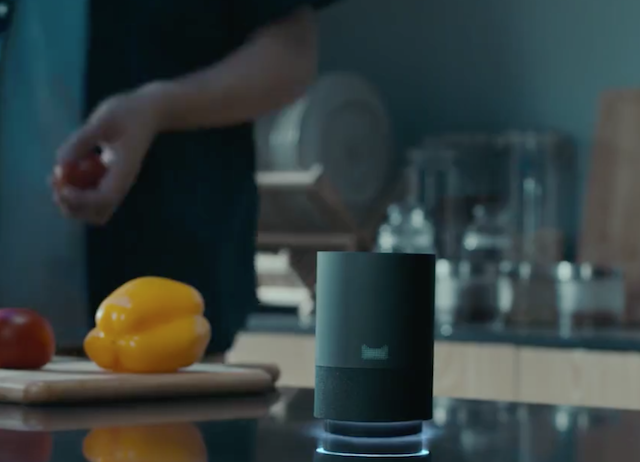audio: (300, 240, 443, 458)
